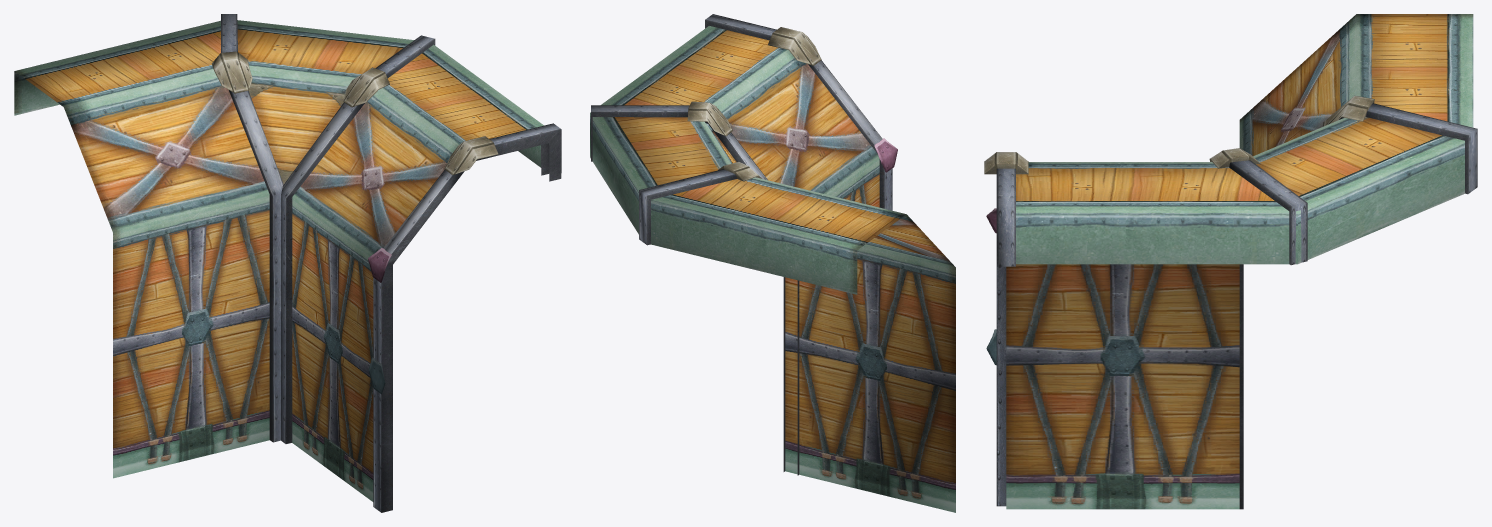
File: obj_madaprrevetment90r.glb
3 renders of one model, left to right at view 1: azimuth 30°, elevation 25°; view 2: azimuth 150°, elevation 25°; view 3: azimuth 270°, elevation 25°, orthographic. The views are drawn at different scales.
Parts seen in each view (by area): view 1: part_0; view 2: part_0; view 3: part_0.
Part boxes in pixels (x1,y1,x2,y2): part_0: (14,14,561,512); part_0: (590,14,955,512); part_0: (984,14,1477,509).
Size of the model in its own units: 16.2 by 15.38 by 16.91.
Materials: 1 (1 with a texture image).
